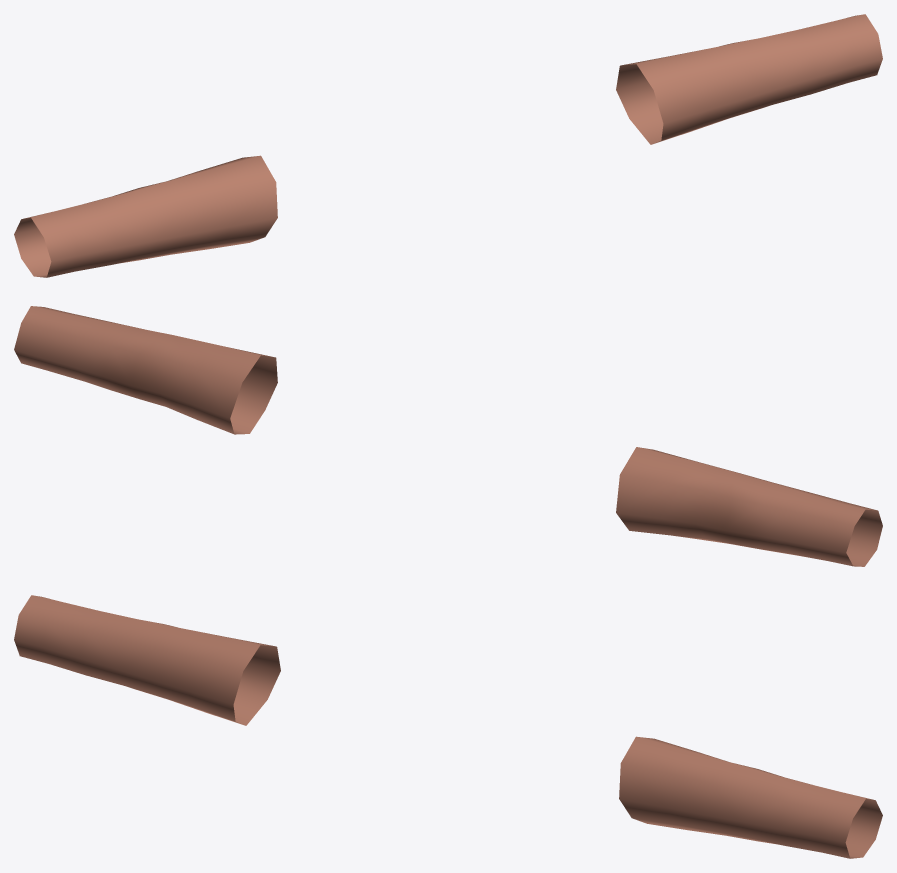
File: Body_Brown_ArmA_2.fbx
3 renders of one model, top to bottom at view 1: azimuth 30°, elevation 25°; view 2: azimuth 150°, elevation 25°; view 3: azimuth 330°, elevation 25°, orthographic.
Parts seen in each view (by area): view 1: Body_Brown_ArmA_2; view 2: Body_Brown_ArmA_2; view 3: Body_Brown_ArmA_2.
Part boxes in pixels (x1,y1,x2,y2): Body_Brown_ArmA_2: (14, 14, 882, 277); Body_Brown_ArmA_2: (14, 306, 882, 566); Body_Brown_ArmA_2: (14, 595, 882, 858).
Bounding box in the file's own units: 95.86 × 9.1 × 9.47.
